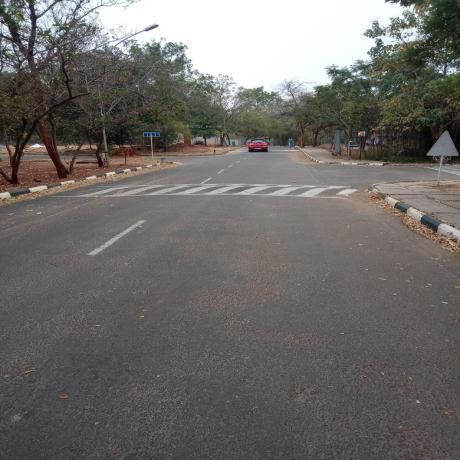Speed Bump: (44, 184, 378, 198)
